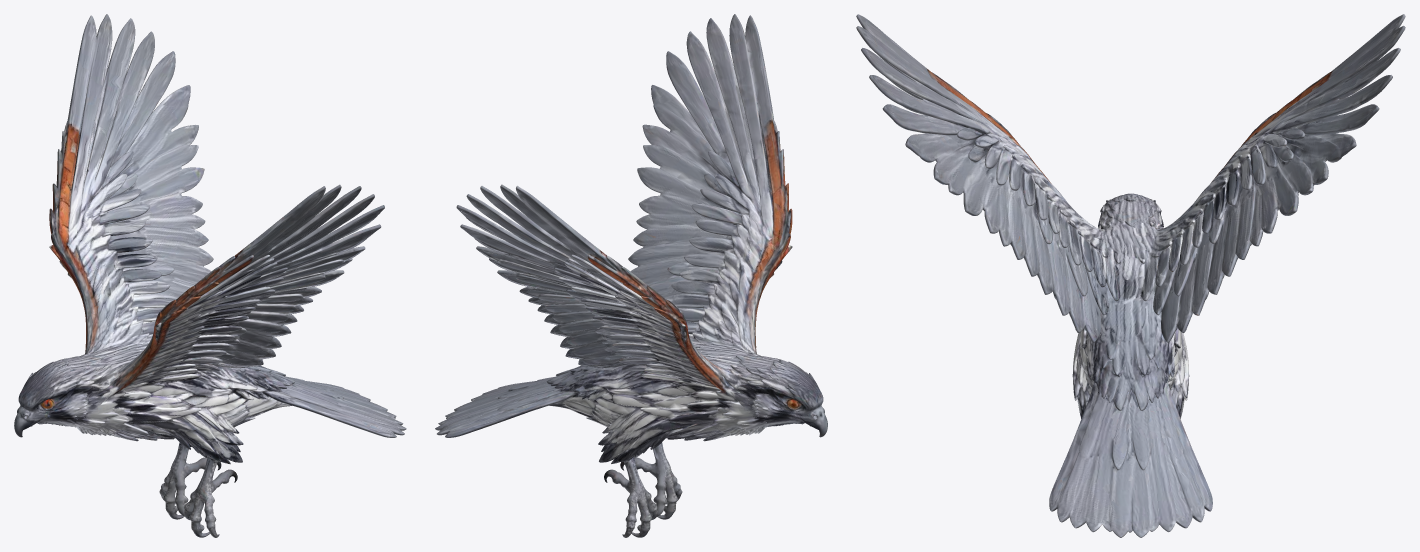
Rendered from falcon-web.glb.
3 views of the same model, side by side, from view 1: azimuth 30°, elevation 25°; view 2: azimuth 150°, elevation 25°; view 3: azimuth 270°, elevation 25° (orthographic). The views are drawn at different scales.
Parts seen in each view (by area): view 1: node_0.001; view 2: node_0.001; view 3: node_0.001.
Boxes of the visible parts, x1=… form: node_0.001: x1=14, y1=14, x2=406, y2=537; node_0.001: x1=435, y1=14, x2=827, y2=537; node_0.001: x1=856, y1=14, x2=1405, y2=537.
Size of the model in its own units: 1.86 by 1.99 by 2.
1 material, 1 textured.
